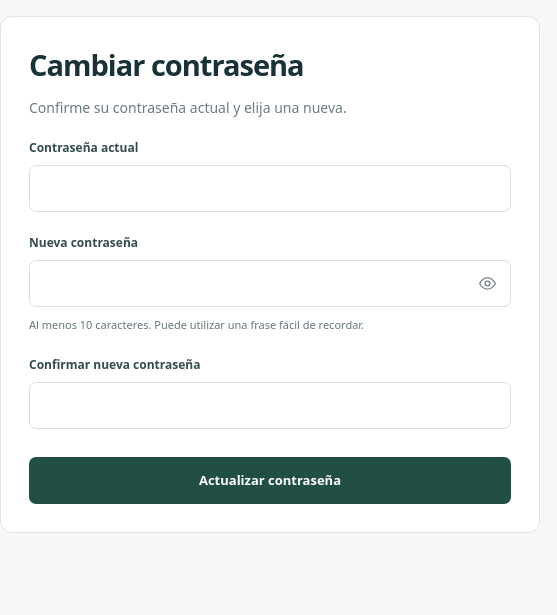
Test case: el cambio de contraseña conserva la identidad autenticada
Type "anterior" into the password field labelled "Contraseña actual".
click(270, 188); type("anterior")  # box [29,165,511,212]
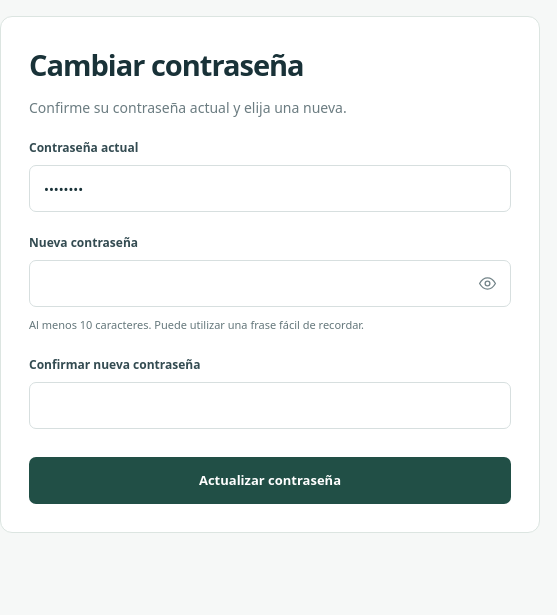
Type "Frase privada 2026!" into the password field labelled "Nueva contraseña".
click(270, 284); type("Frase privada 2026!")  # box [29,260,511,307]
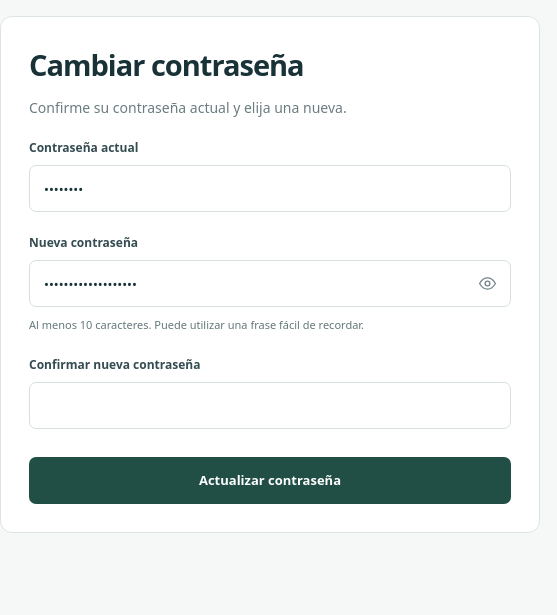
Type "Frase privada 2026!" into the password field labelled "Confirmar nueva contraseña".
click(270, 405); type("Frase privada 2026!")  # box [29,382,511,429]
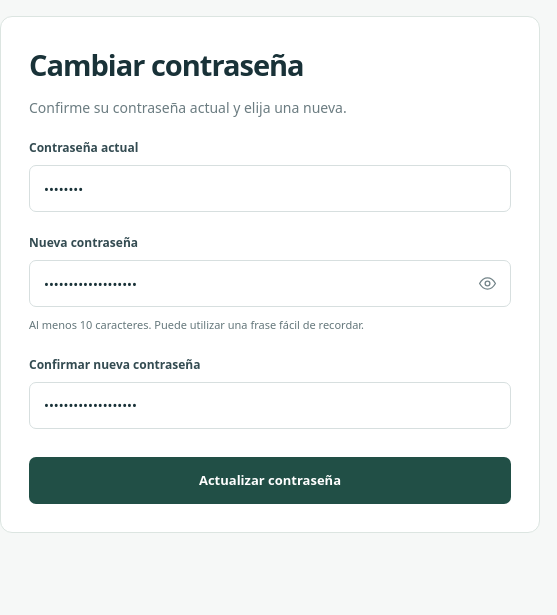
Click the button "Actualizar contraseña".
click(270, 480)  # box [29,457,511,504]
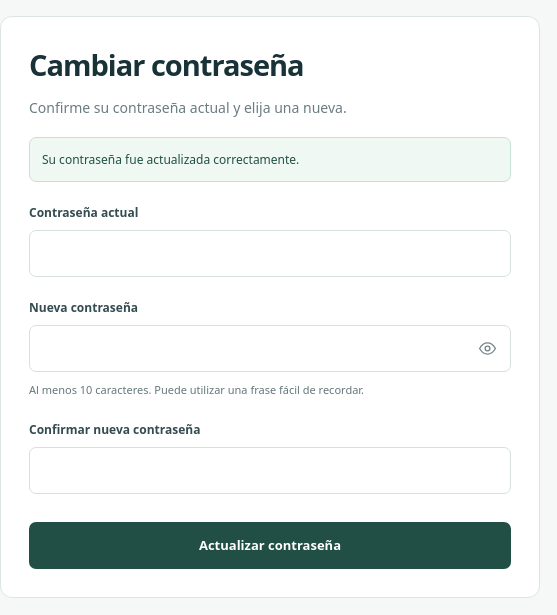
Expected: the message shows "actualizada correctamente", [42,151,299,168]
Expected: the password field labelled "Contraseña actual" is empty, [29,230,511,277]
